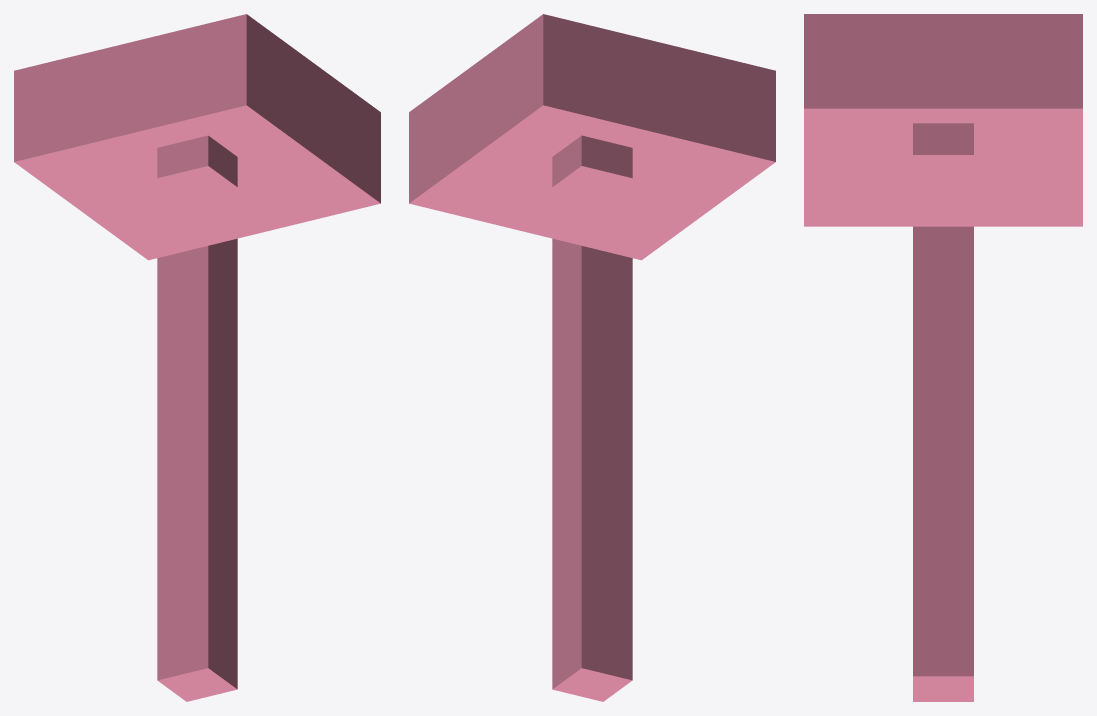
The model's file is veg-flower-a.glb.
The picture shows the model from 3 angles, left to right: view 1: azimuth 30°, elevation 25°; view 2: azimuth 150°, elevation 25°; view 3: azimuth 270°, elevation 25°; orthographic projection. The views are drawn at different scales.
Size of the model in its own units: 0.32 by 0.78 by 0.32.
